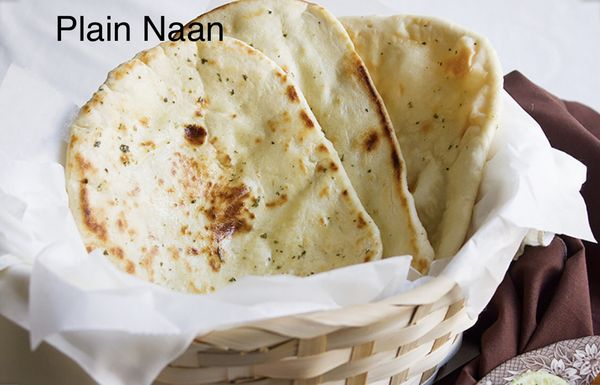pizza: (503, 69, 600, 346)
